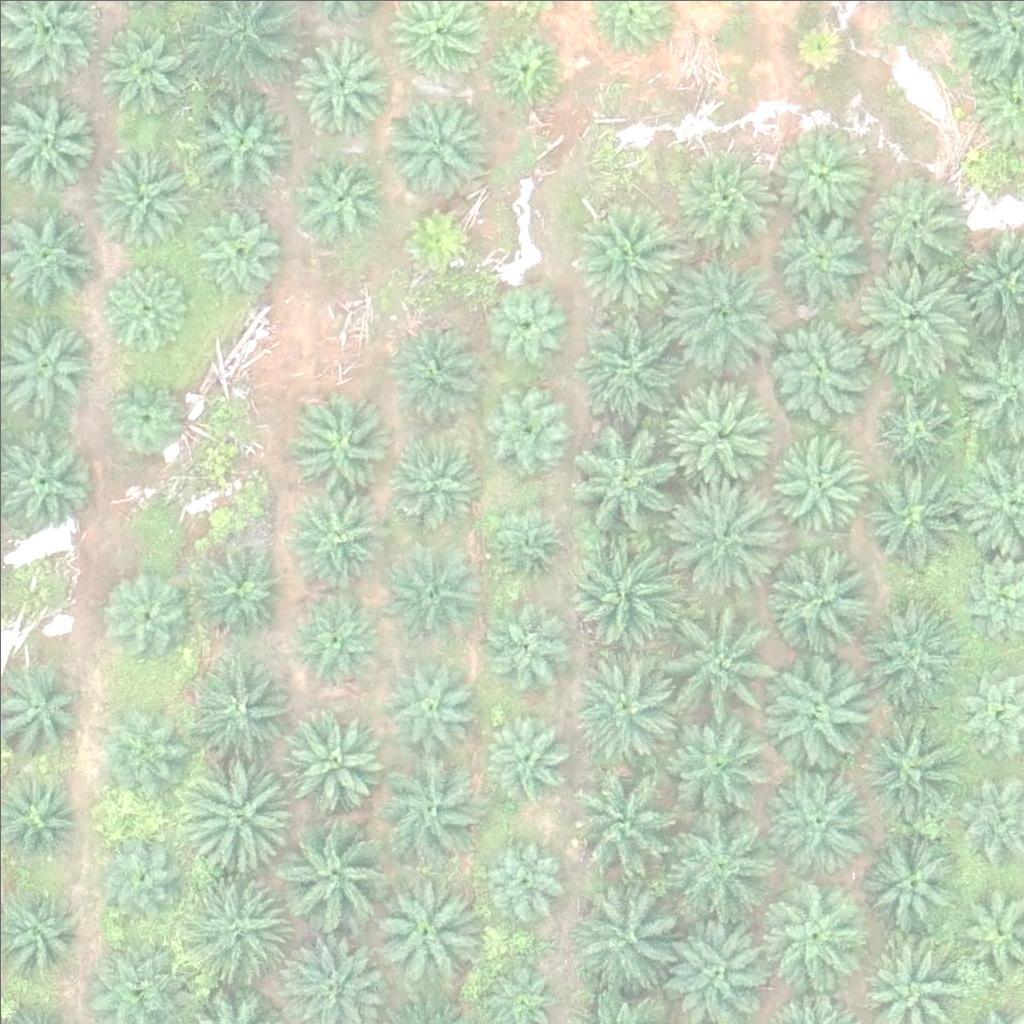Kelapa_Sawit: (662, 472, 775, 586), (186, 87, 299, 200), (564, 651, 677, 764), (568, 532, 681, 645), (575, 416, 688, 529), (768, 647, 881, 760), (184, 868, 297, 981), (577, 300, 689, 414), (573, 196, 685, 310), (671, 139, 783, 253), (268, 701, 380, 815), (854, 711, 966, 825), (182, 641, 294, 754), (663, 251, 775, 364), (663, 378, 775, 491), (656, 603, 768, 716), (771, 542, 883, 655), (853, 594, 965, 707), (856, 454, 968, 567), (856, 266, 968, 379), (178, 755, 290, 868), (277, 823, 389, 936), (367, 872, 479, 985), (378, 751, 490, 864), (572, 880, 684, 993), (567, 770, 679, 883), (665, 715, 777, 828), (666, 806, 778, 919), (759, 759, 871, 872), (285, 482, 385, 583), (289, 390, 389, 491), (288, 150, 388, 251), (288, 40, 388, 141), (384, 434, 484, 535), (383, 325, 483, 426), (390, 88, 490, 189), (769, 428, 869, 529), (769, 316, 869, 417), (767, 207, 867, 308), (872, 168, 972, 269), (763, 876, 863, 977), (867, 832, 967, 933), (88, 24, 188, 124), (89, 148, 189, 248), (377, 661, 477, 761), (382, 532, 482, 632), (767, 122, 867, 222), (102, 268, 190, 357), (392, 197, 480, 285), (478, 26, 566, 114), (103, 566, 191, 654), (196, 206, 284, 294), (291, 599, 379, 687), (483, 281, 571, 369), (479, 389, 567, 477), (876, 383, 964, 471), (101, 371, 188, 459), (196, 543, 283, 631), (482, 497, 569, 585), (482, 602, 569, 690), (95, 832, 182, 920), (99, 716, 186, 804), (479, 714, 566, 802), (479, 838, 566, 926), (791, 11, 854, 74)
